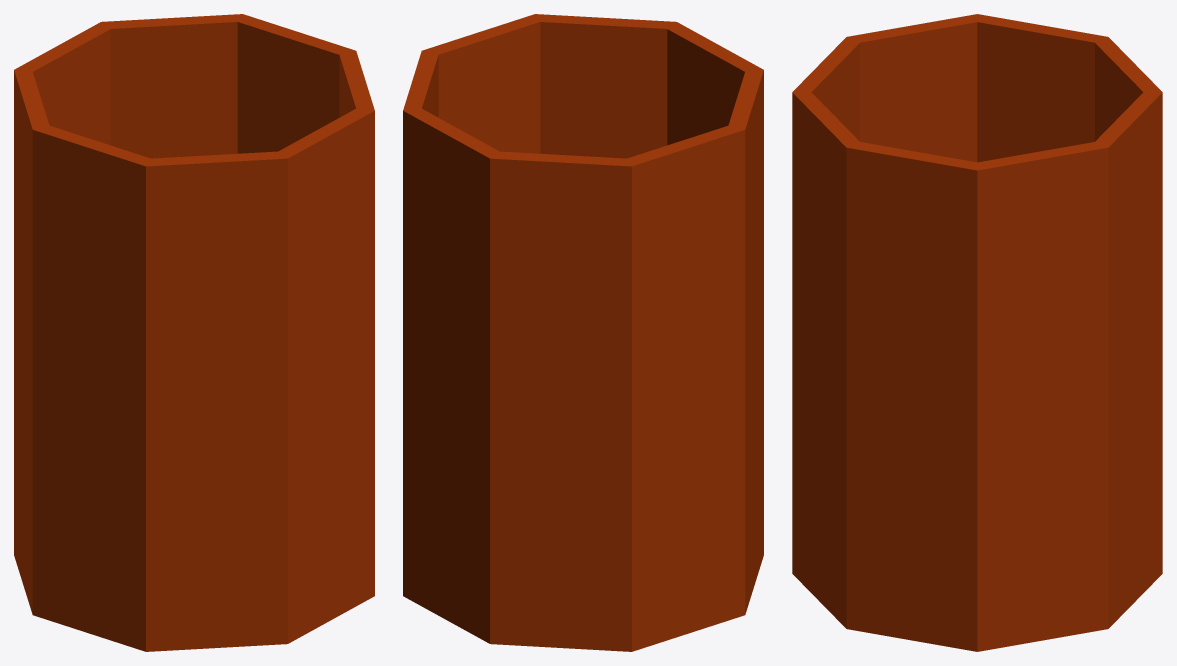
Rendered from Cup_mini_2.fbx.
3 renders of one model, left to right at view 1: azimuth 30°, elevation 25°; view 2: azimuth 150°, elevation 25°; view 3: azimuth 270°, elevation 25°, orthographic.
Parts seen in each view (by area): view 1: Cup_mini_2; view 2: Cup_mini_2; view 3: Cup_mini_2.
Boxes of the visible parts, x1,y1,x2,y2 form: Cup_mini_2: (14, 14, 374, 651); Cup_mini_2: (403, 14, 763, 651); Cup_mini_2: (792, 14, 1162, 651).
Size of the model in its own units: 2.42 by 3.47 by 2.42.
